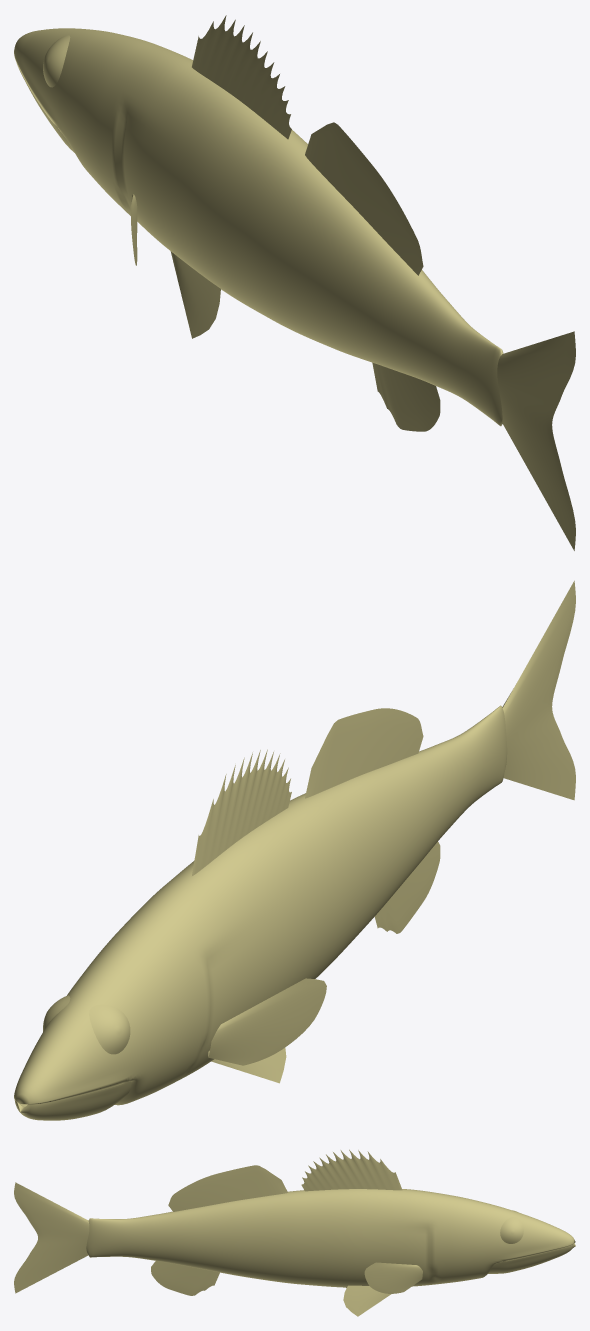
The model's file is walleye.glb.
3 views of the same model, one above another, from view 1: azimuth 30°, elevation 25°; view 2: azimuth 150°, elevation 25°; view 3: azimuth 270°, elevation 25° (orthographic). The views are drawn at different scales.
Visible parts, largest first — view 1: walleye; view 2: walleye; view 3: walleye.
Part boxes in pixels (x1,y1,x2,y2): walleye: (14,15,575,550); walleye: (14,580,575,1120); walleye: (14,1149,575,1316).
Bounding box in the file's own units: 0.1404 × 0.2129 × 0.6915.
